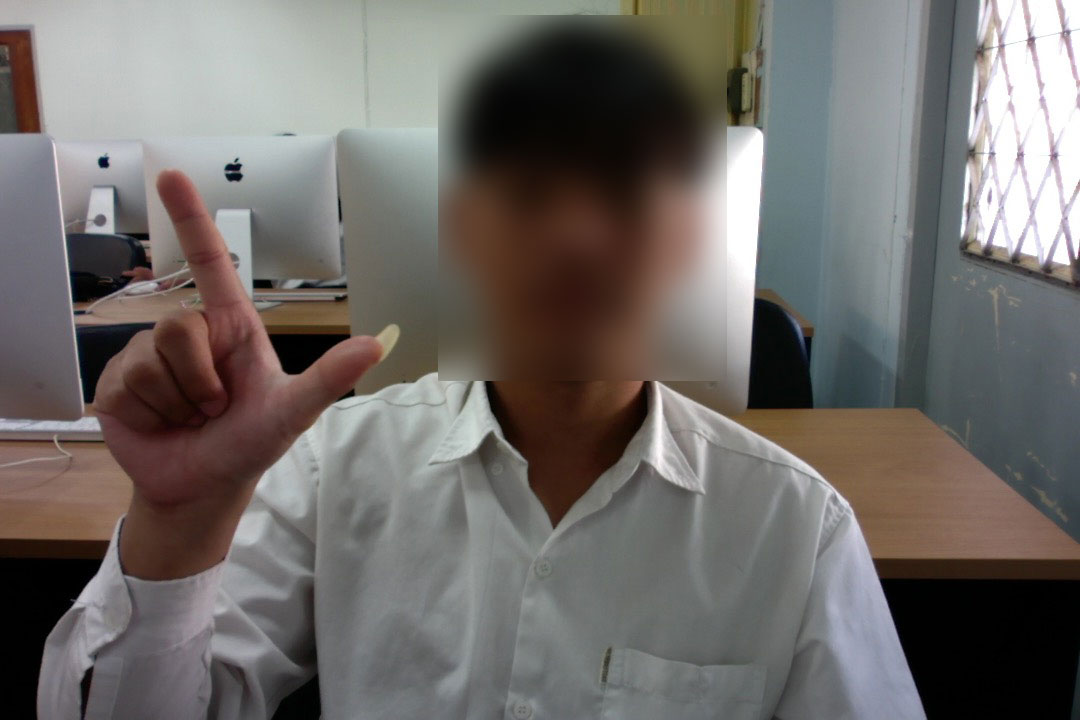lor: (82, 161, 404, 504)
